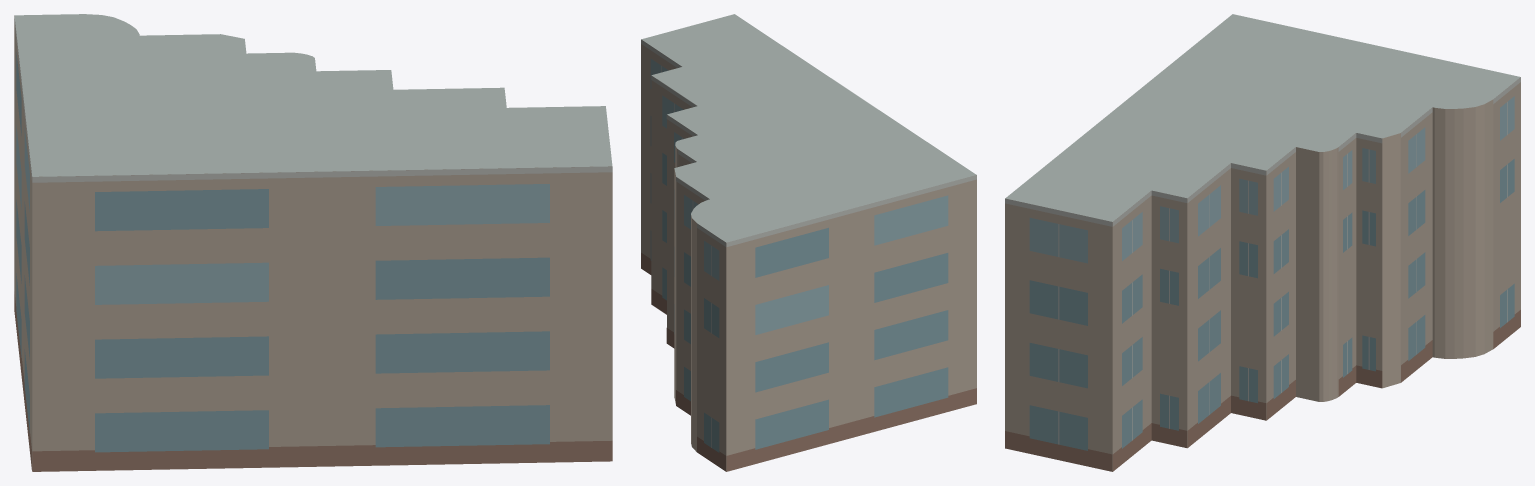
Rendered from survey-upis-32723593.glb.
3 renders of one model, left to right at view 1: azimuth 30°, elevation 25°; view 2: azimuth 150°, elevation 25°; view 3: azimuth 270°, elevation 25°, orthographic. The views are drawn at different scales.
Parts seen in each view (by area): view 1: survey-upis-32723593.tmp; view 2: survey-upis-32723593.tmp; view 3: survey-upis-32723593.tmp.
Part boxes in pixels (x1,y1,x2,y2): survey-upis-32723593.tmp: (14,14,612,471); survey-upis-32723593.tmp: (641,14,976,471); survey-upis-32723593.tmp: (1005,14,1520,471).
Bounding box in the file's own units: 21.95 × 12.3 × 23.01.
